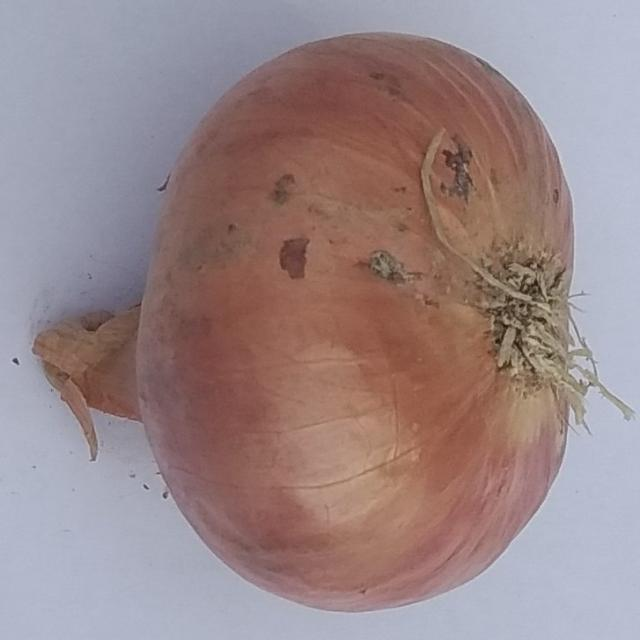onion: (28, 27, 632, 615)
